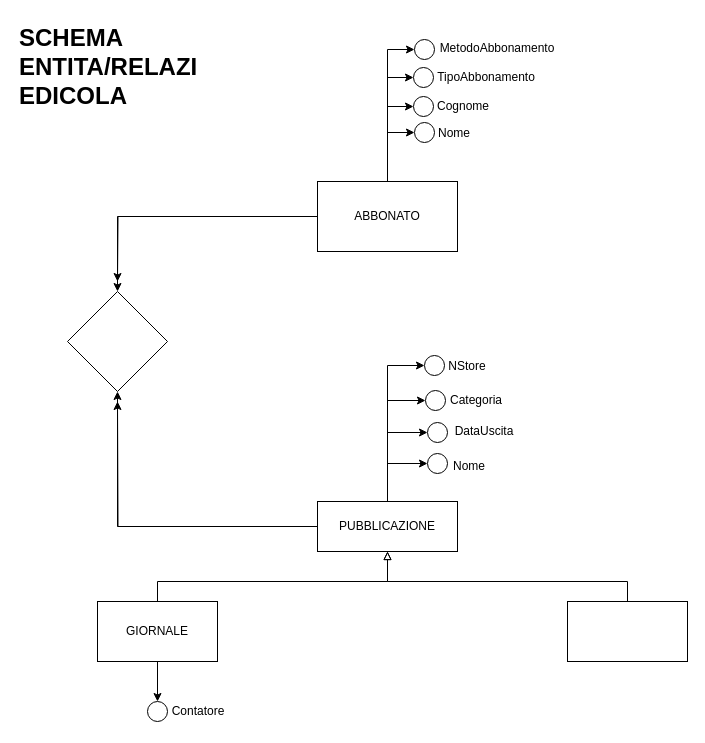
Some shapes in this 705 by 743 pixel diagram are drawn without their labels. Here are the shapes that lost their labels. From the top down, the centre of each, then its label:
At (x=117, y=341): "VENDERE".
At (x=627, y=631): "RIVISTA".
